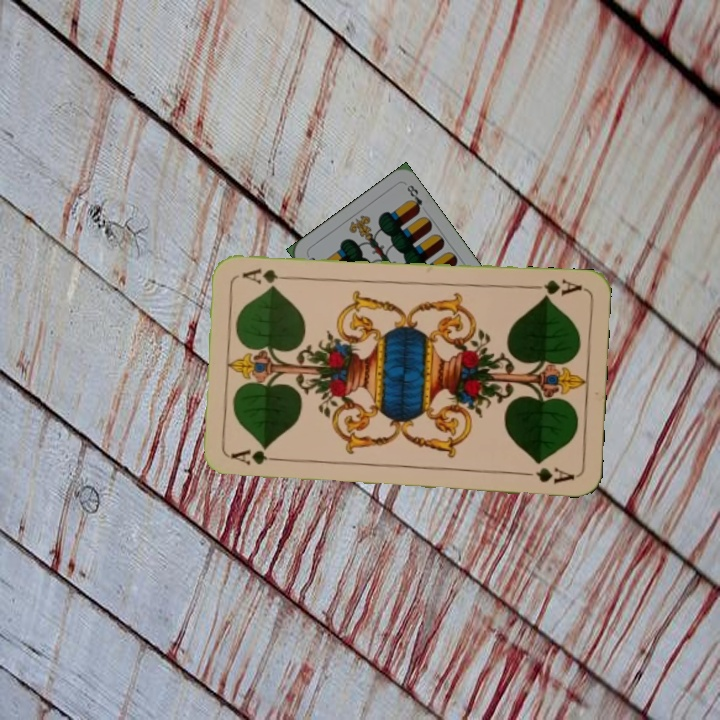GA: (526, 275, 585, 301), (227, 446, 286, 468)
